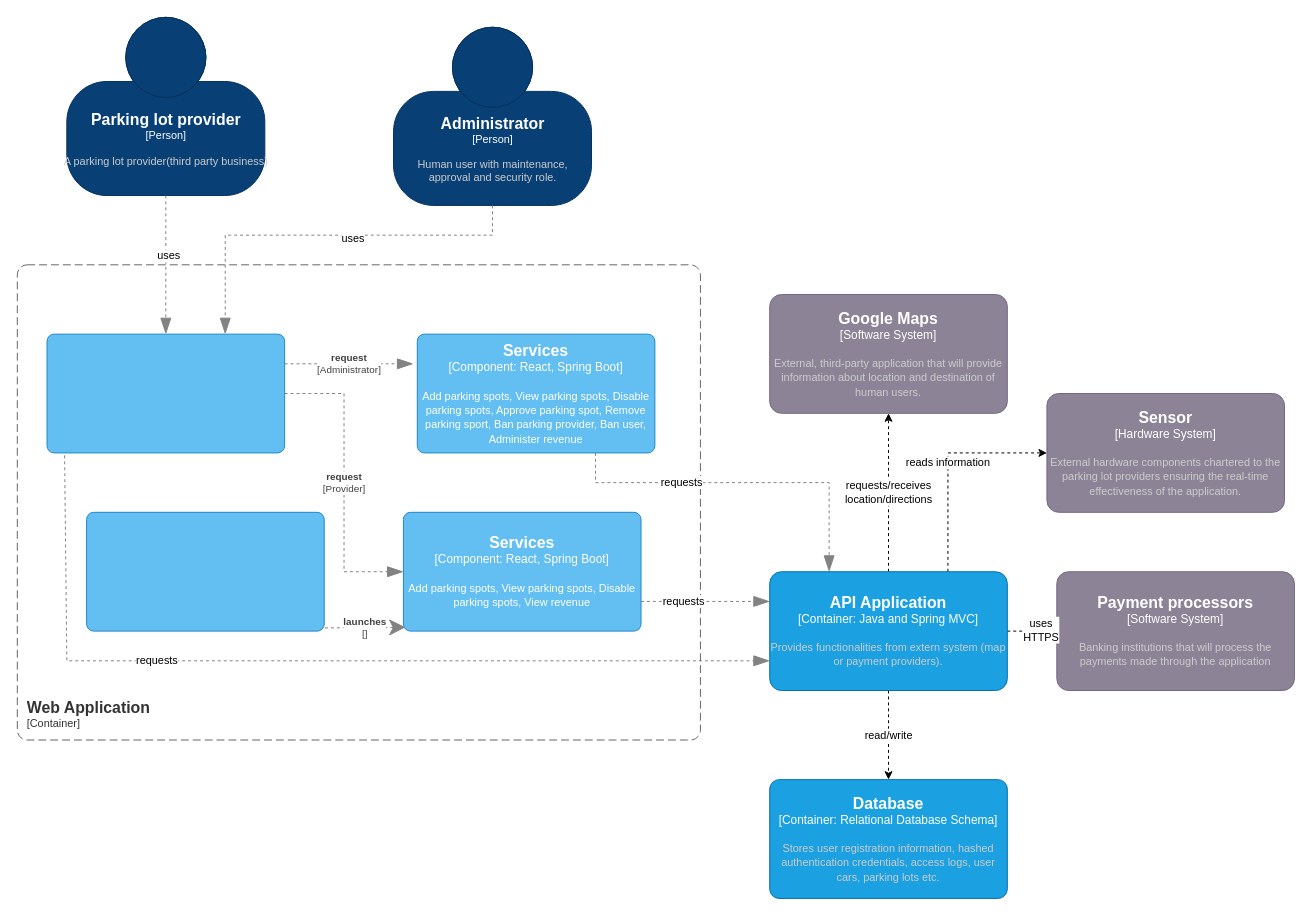
Image size: 1312x916. Some labels were removed from this diagram. Here are the shapes that lost their labels. From the top down, the centre of each, then its label:
point 165,393: Activities [Component: React] Login, register, etc...
point 205,571: Broadcast receivers [Component: React Query] Notifications, Events
